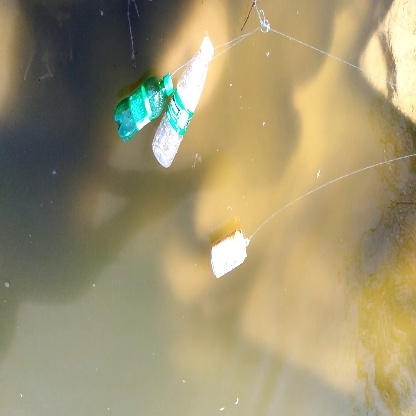bottle: (152, 36, 219, 171), (209, 222, 257, 285)
